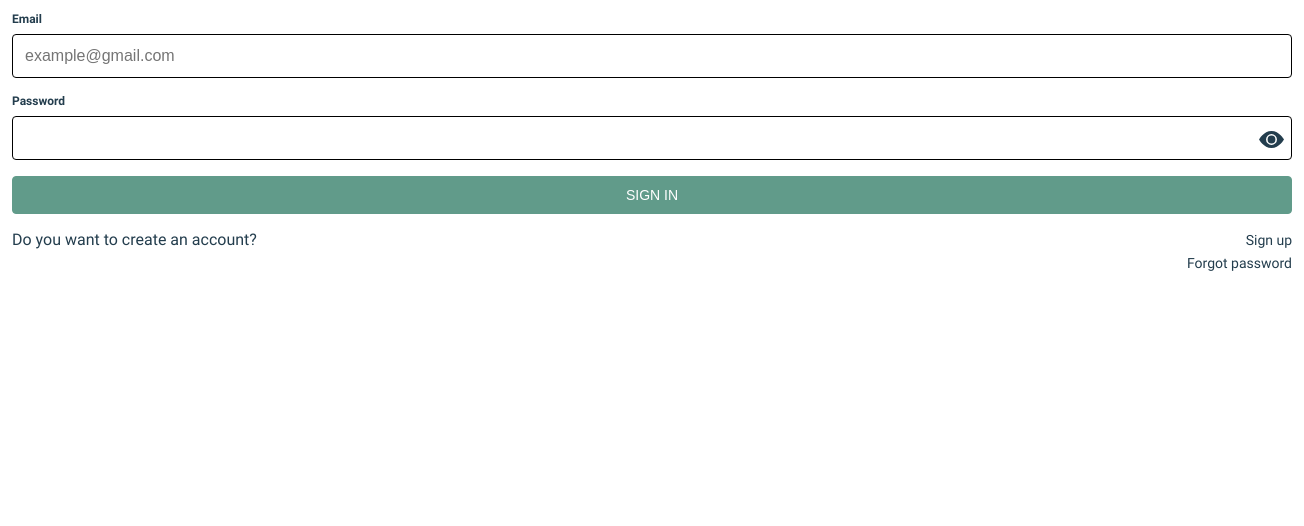
Test: LoginForm › redirect to signup page
Click the link "Sign up". click: (1269, 240)
box: [1246,232,1292,248]
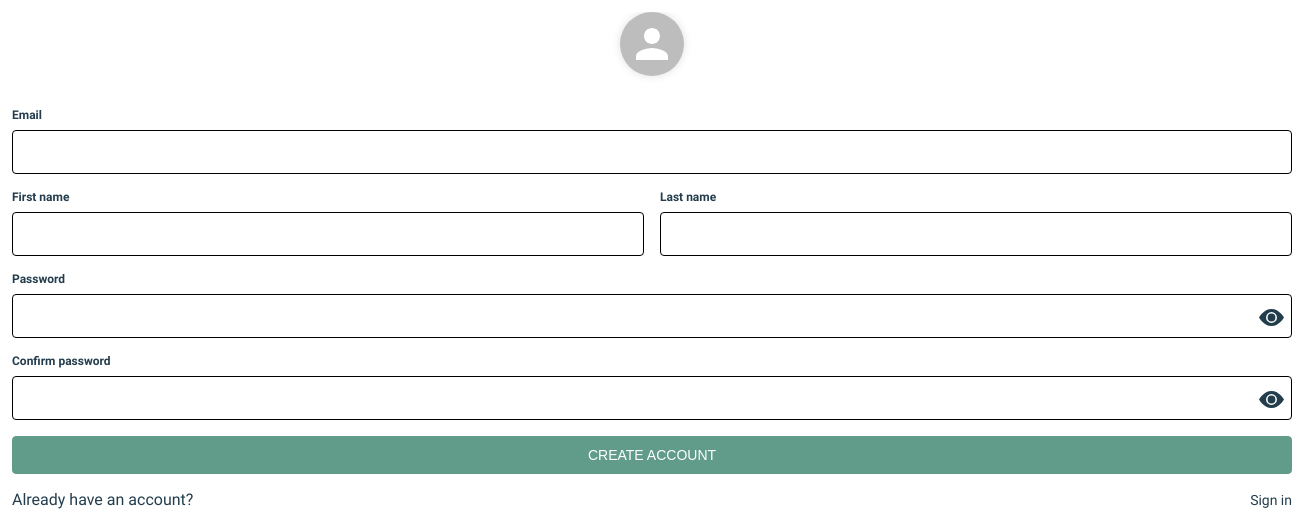
Expected: the button "Create Account" is shown, [12,436,1292,474]
